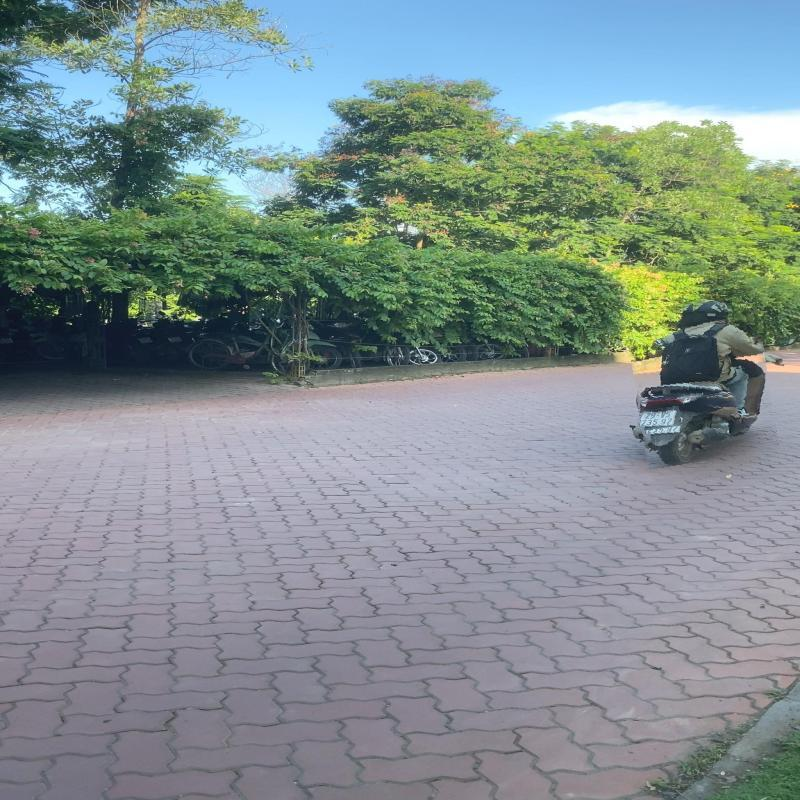helmet: (693, 300, 732, 320)
licenseplate: (636, 408, 680, 430)
motorcyclist: (629, 297, 774, 465)
